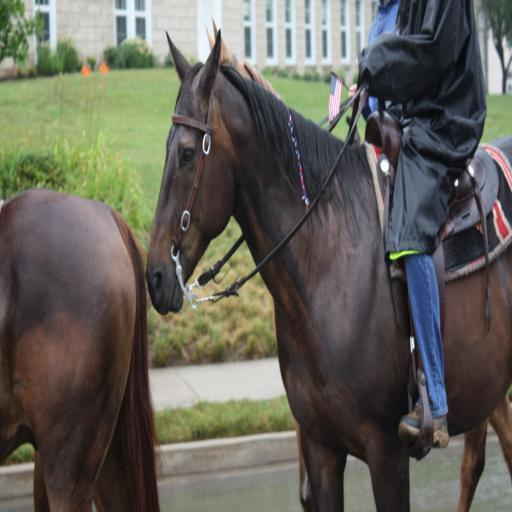horse: (204, 14, 512, 512), (0, 185, 167, 511)
